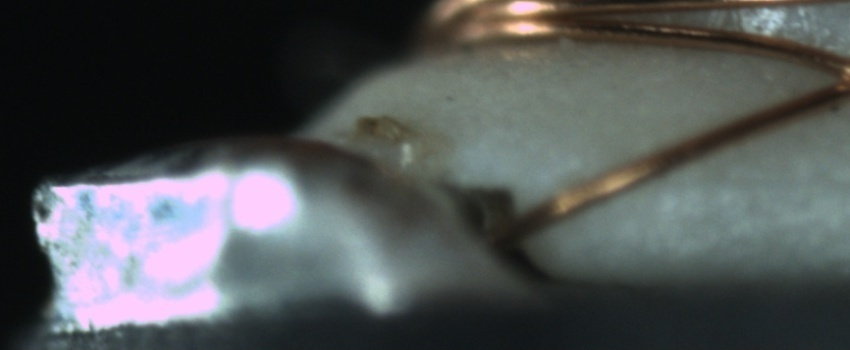DL: (638, 154, 849, 211)
